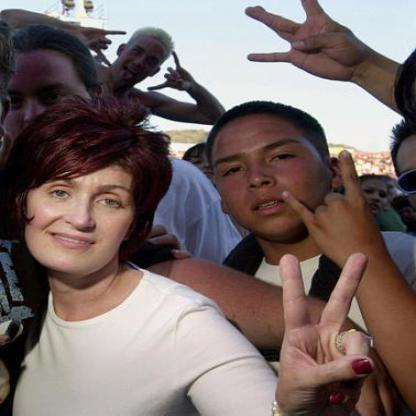face: (27, 123, 142, 278), (211, 102, 325, 239), (1, 31, 93, 166), (123, 31, 166, 89), (187, 144, 223, 185), (361, 180, 390, 218)
